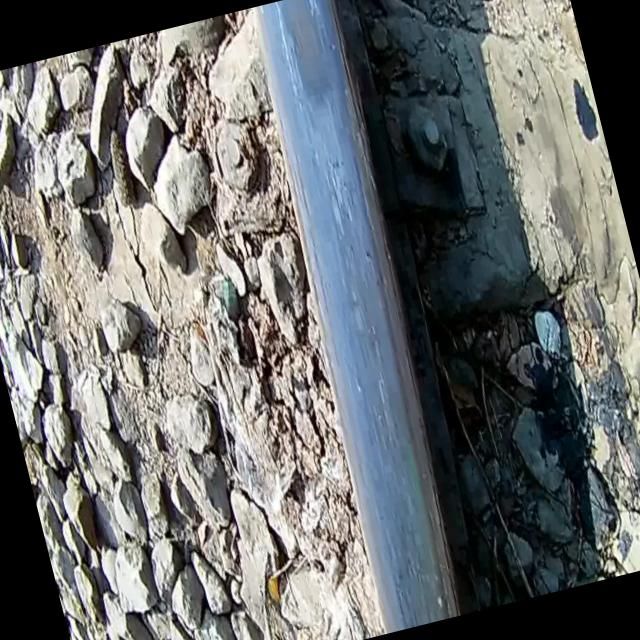Squats: (210, 0, 508, 638)
